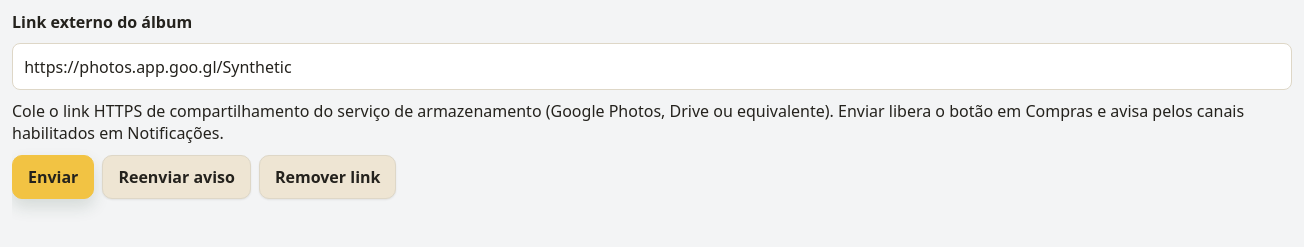
Test: duplo clique durante requisição pendente não duplica aviso
The width and height of the screenshot is (1304, 247).
Click the button "Reenviar aviso" at (177, 176), box left=102, top=154, right=251, bottom=198
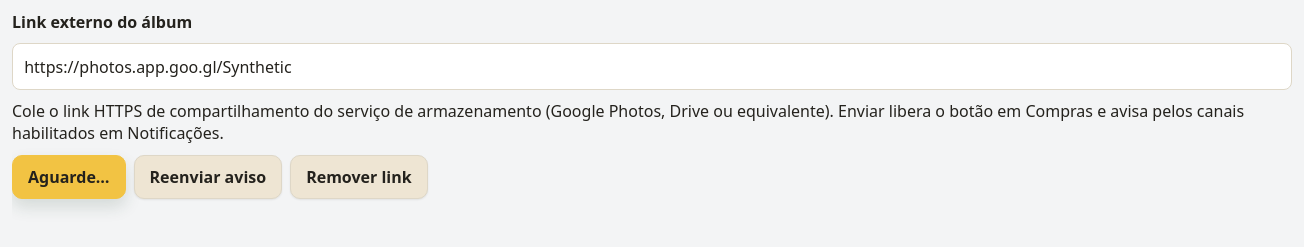
Click the button "Reenviar aviso" at (208, 176), box left=134, top=154, right=282, bottom=198
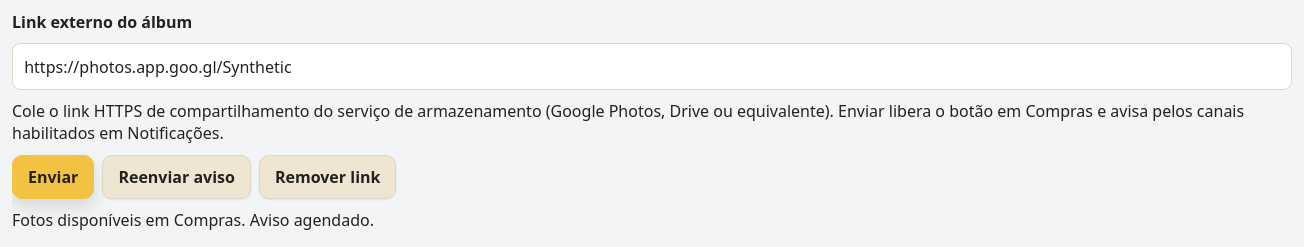
Result: the message "Fotos disponíveis em Compras. Aviso agendado." is shown at left=12, top=209, right=374, bottom=231
